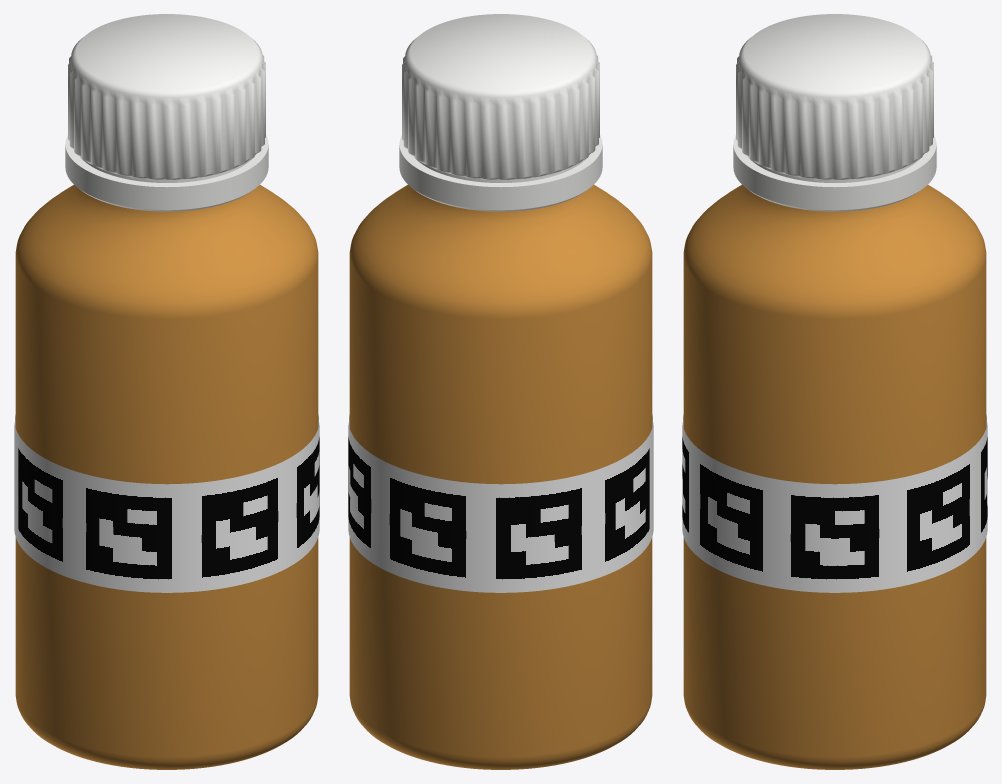
Rendered from SMP-0160_2003274613349.glb.
3 renders of one model, left to right at view 1: azimuth 30°, elevation 25°; view 2: azimuth 150°, elevation 25°; view 3: azimuth 270°, elevation 25°, orthographic.
Parts seen in each view (by area): view 1: Bottle_100ml, Cap_100ml_PP28, Label_SMP-0160; view 2: Bottle_100ml, Cap_100ml_PP28, Label_SMP-0160; view 3: Bottle_100ml, Cap_100ml_PP28, Label_SMP-0160.
Boxes of the visible parts, x1,y1,x2,y2 form: Bottle_100ml: (15, 185, 318, 769); Cap_100ml_PP28: (65, 14, 268, 211); Label_SMP-0160: (14, 414, 319, 592); Bottle_100ml: (349, 185, 652, 769); Cap_100ml_PP28: (399, 14, 602, 211); Label_SMP-0160: (348, 414, 653, 592); Bottle_100ml: (683, 185, 986, 769); Cap_100ml_PP28: (733, 14, 936, 211); Label_SMP-0160: (682, 414, 987, 592).
Bounding box in the file's own units: 0.0478 × 0.1142 × 0.0478.
Materials: 4 (1 with a texture image).
